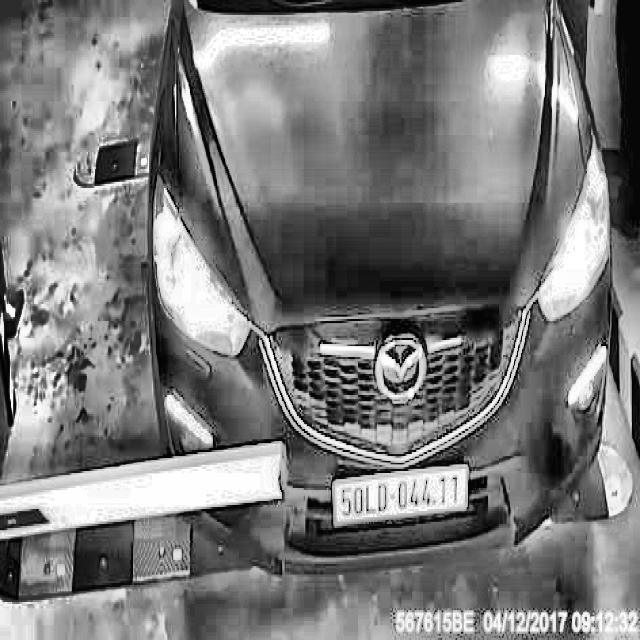plate: (327, 458, 473, 534)
